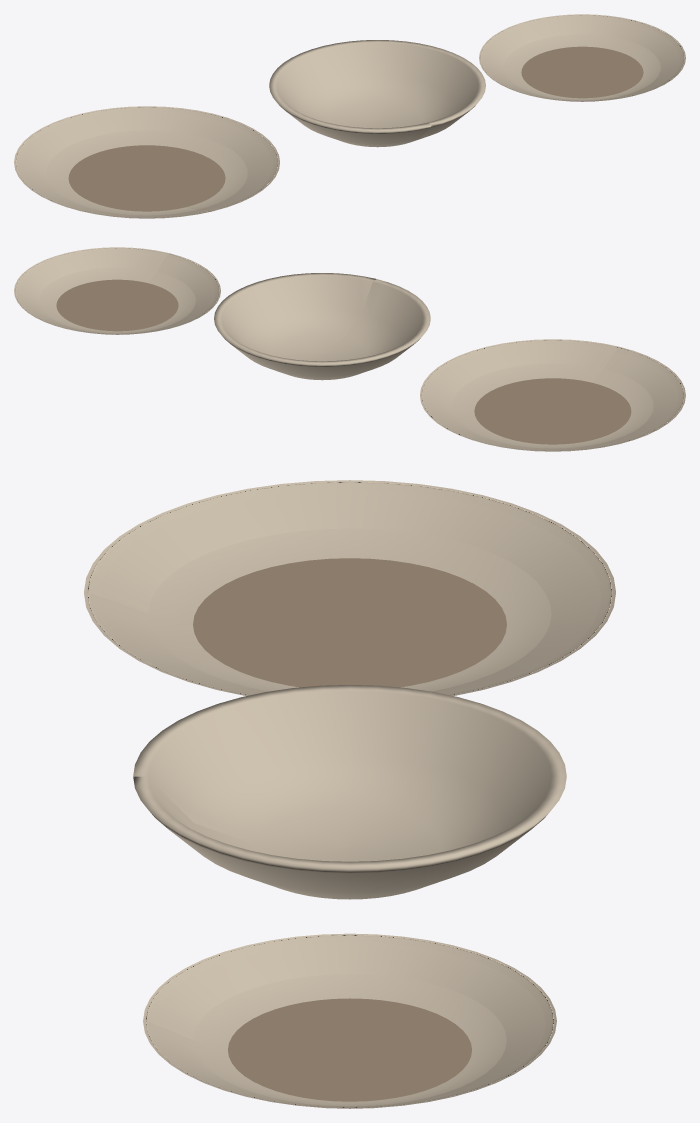
The model's file is RAY-13.glb.
The picture shows the model from 3 angles, top to bottom: view 1: azimuth 30°, elevation 25°; view 2: azimuth 150°, elevation 25°; view 3: azimuth 270°, elevation 25°; orthographic projection. The views are drawn at different scales.
Bounding box in the file's own units: 0.75 × 0.045 × 0.27.
